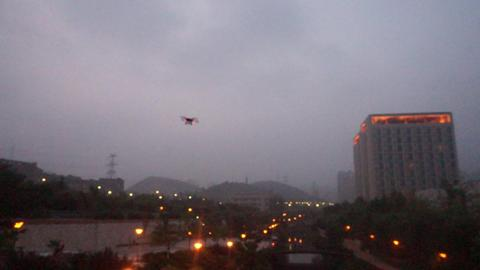UAV: (180, 116, 199, 126)
